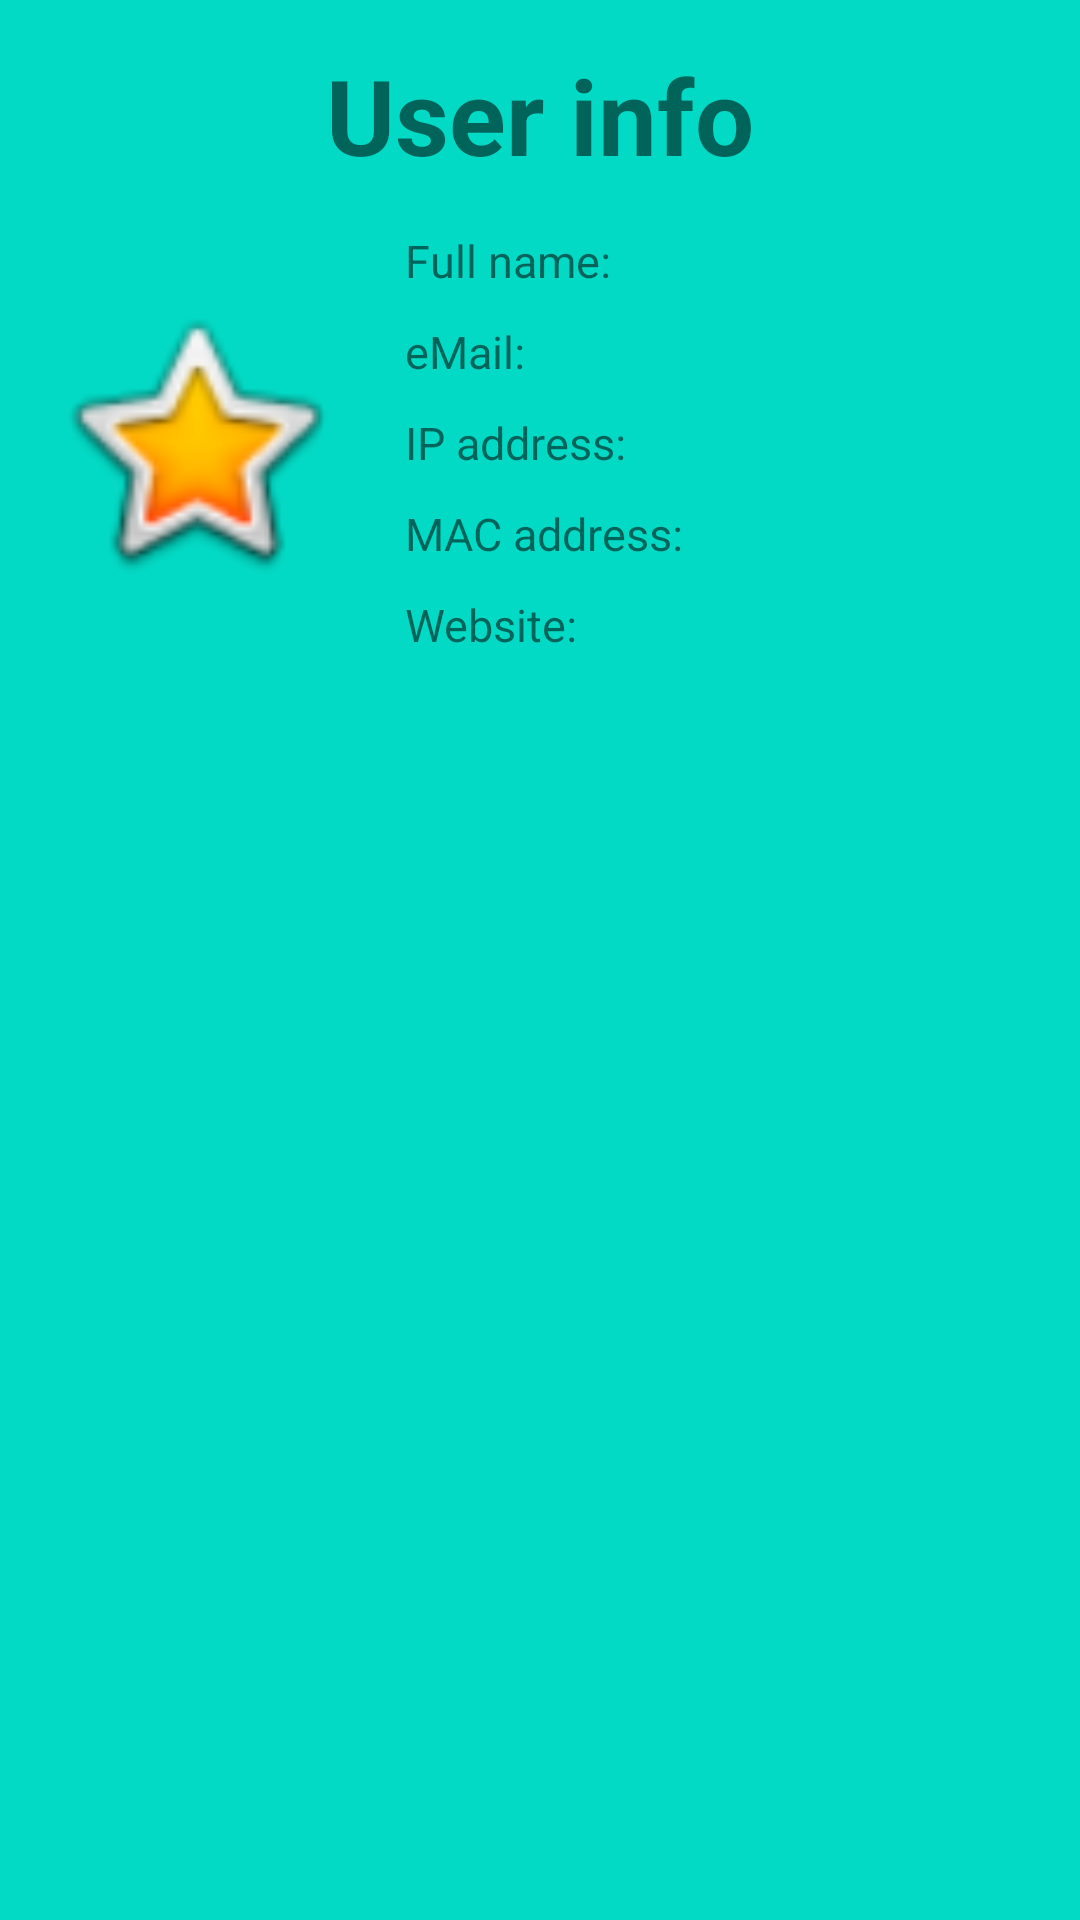

Icons on this 1080x1920 Android screen, each with its box as (x1, y1, x2, y2):
star on: (73, 323, 323, 566)
